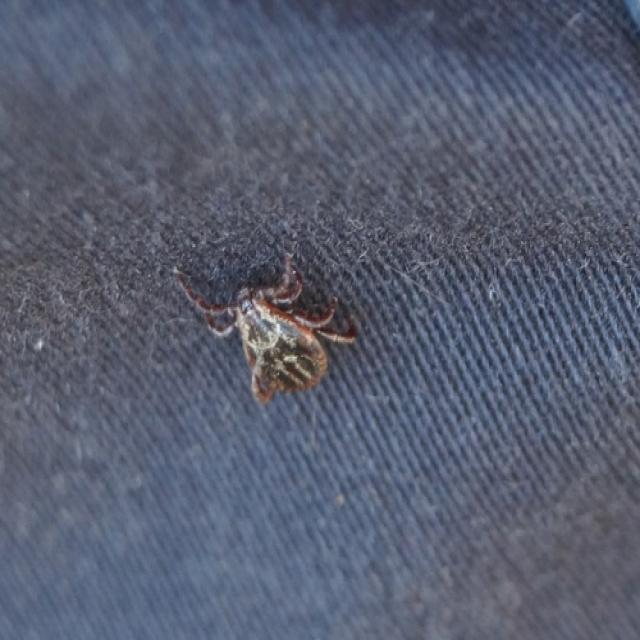Dermacentor Reticulatus-M: (177, 253, 358, 405)
